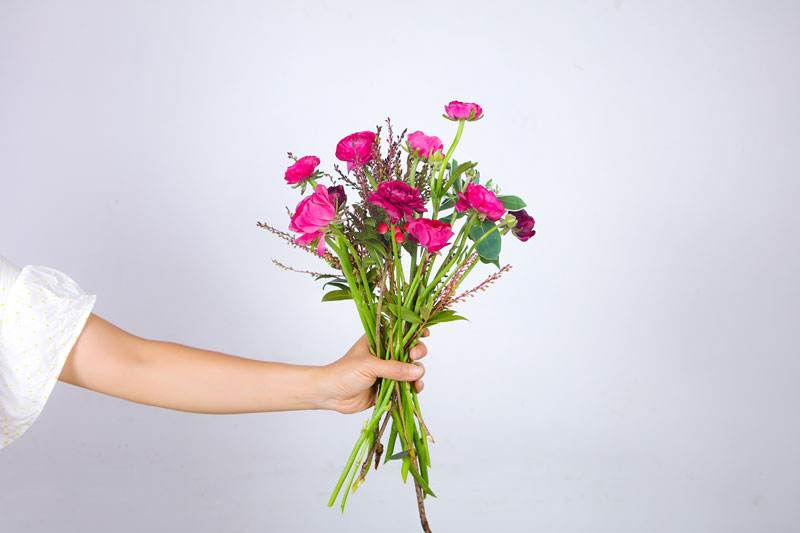no-phone: (296, 289, 475, 439)
